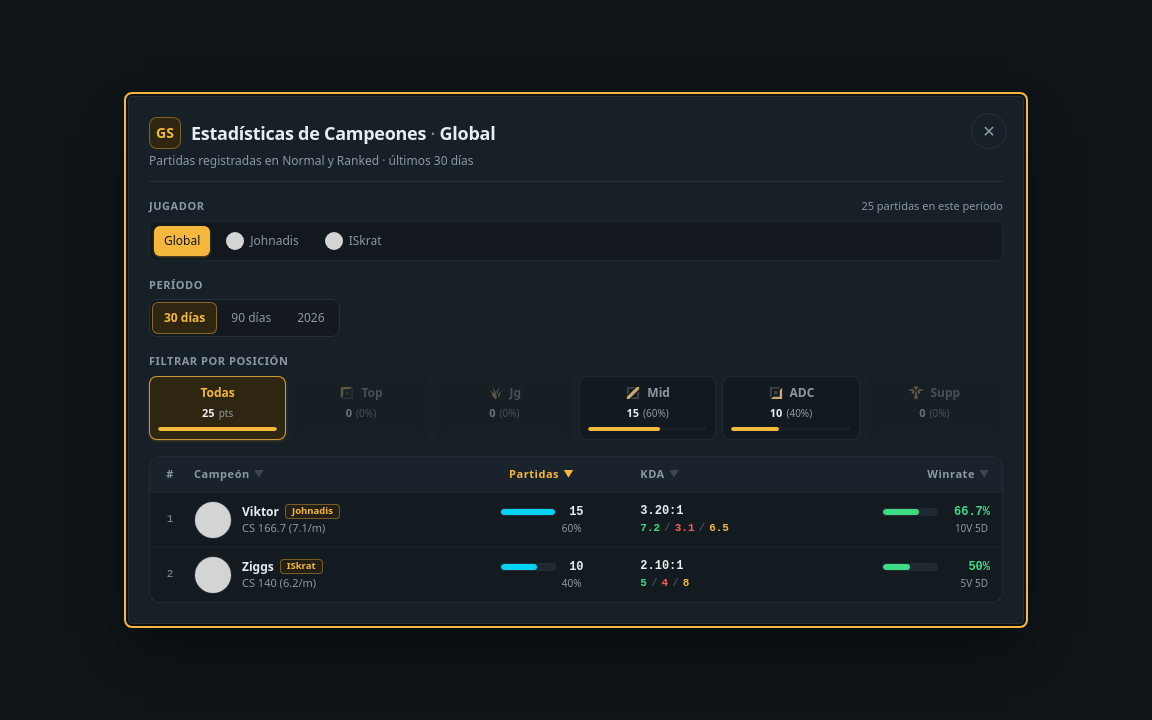
ModalCampeones › cambia de período temporal y muestra los datos correspondientes
// Cambiar a 2026
Click the button "2026": point(311, 318) [285,302,337,334]
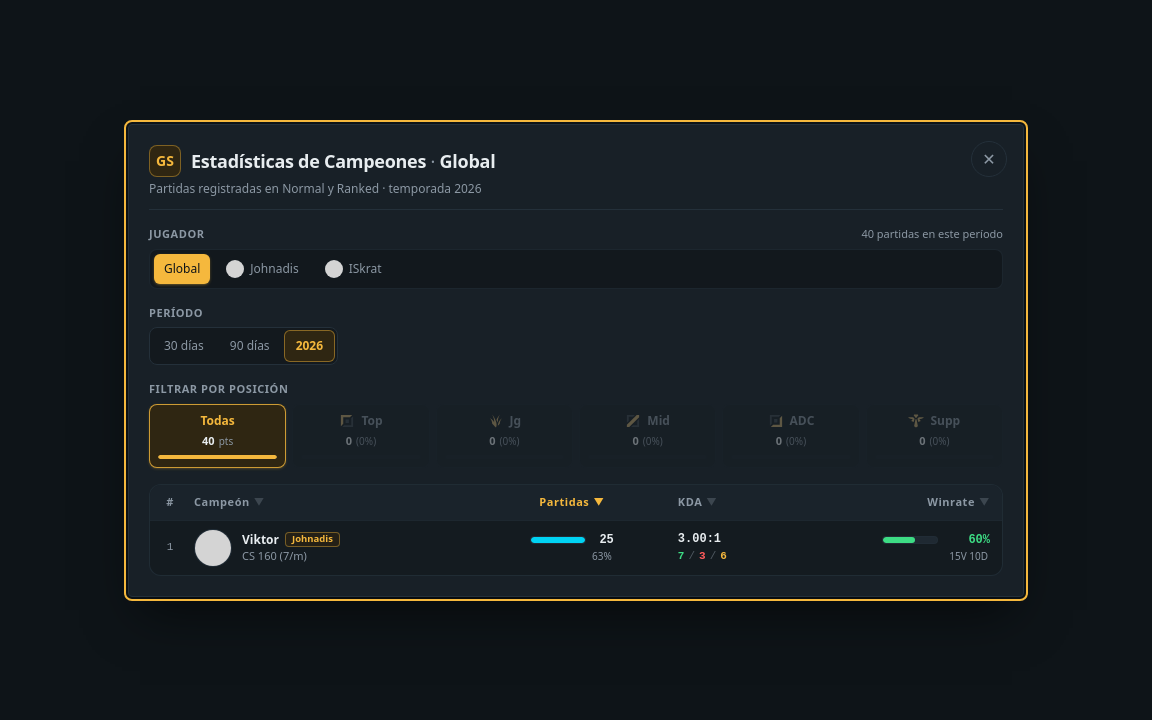
Expected: the text "Viktor" is shown, [242,532,279,546]
Result: the text "60%" is shown at [968,533,990,547]
